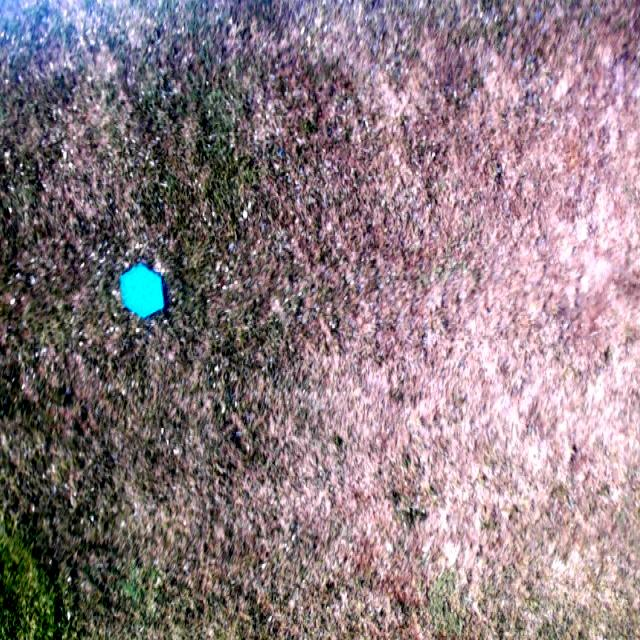blue_hexagon: (120, 264, 164, 320)
